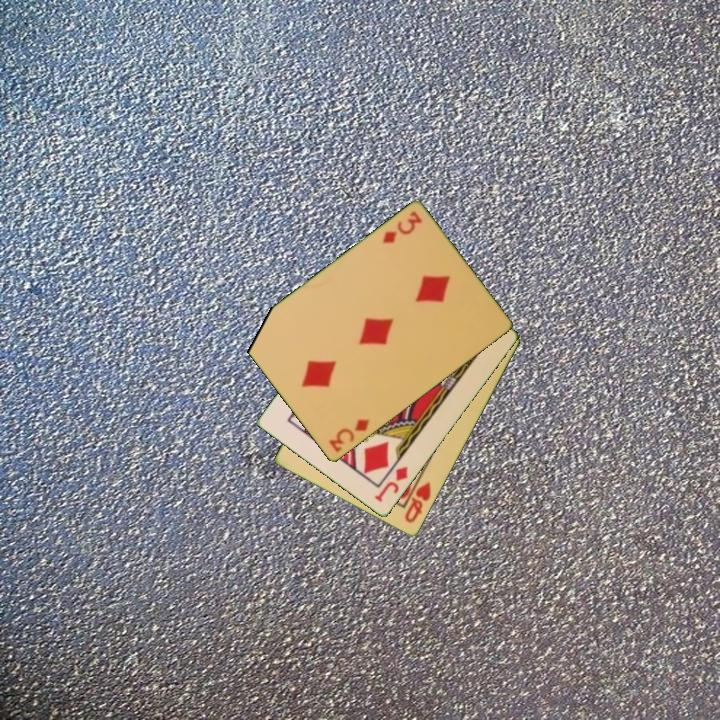3d: (325, 416, 372, 456), (379, 208, 425, 247)
Jd: (371, 463, 411, 505)
Qh: (401, 479, 434, 526)
